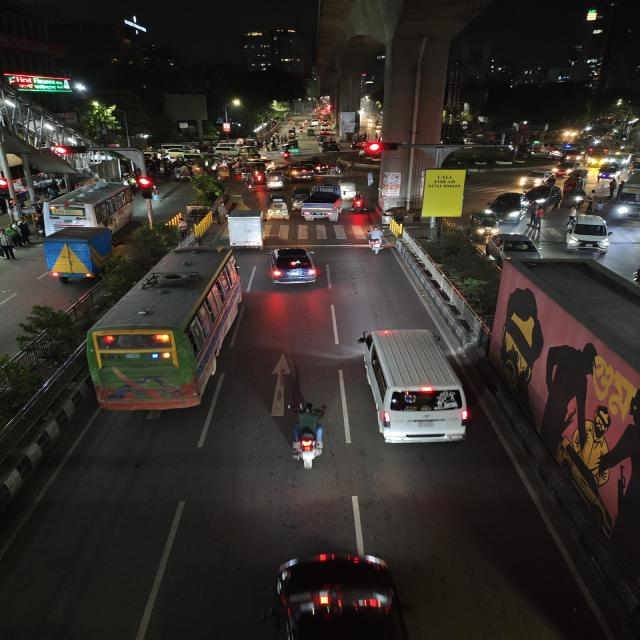bus: (80, 246, 244, 420), (48, 184, 136, 234), (615, 174, 640, 223)
car: (259, 548, 427, 640), (355, 324, 473, 452), (266, 244, 320, 290), (561, 213, 614, 257), (486, 232, 545, 262), (482, 190, 530, 224), (524, 184, 564, 212), (516, 169, 557, 188), (286, 160, 320, 180), (551, 160, 582, 176)
cng: (259, 549, 427, 640), (466, 212, 500, 240), (263, 192, 293, 222), (264, 170, 287, 189)
motorcycle: (284, 400, 332, 470), (362, 224, 389, 256), (566, 186, 592, 208), (349, 190, 370, 214), (241, 175, 254, 192)
pedestrian: (0, 226, 16, 260), (6, 222, 25, 248), (15, 218, 32, 246), (32, 213, 46, 237)
pickup_van: (297, 182, 347, 224)
rickshaw: (172, 162, 193, 182)
truck: (40, 225, 120, 285), (222, 208, 268, 250), (584, 146, 610, 165), (558, 146, 586, 162)
